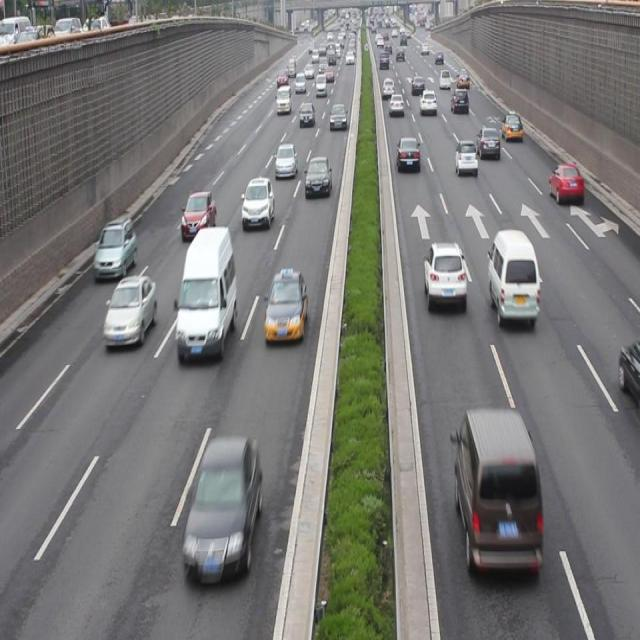car: (181, 434, 261, 582), (103, 274, 157, 348), (264, 268, 307, 342), (422, 242, 464, 306), (94, 217, 137, 277), (181, 188, 216, 240), (241, 176, 275, 228), (548, 161, 584, 206), (305, 156, 332, 195), (396, 136, 420, 171), (274, 142, 297, 178), (476, 125, 500, 159), (454, 139, 477, 174), (500, 111, 524, 141), (329, 102, 348, 131), (298, 101, 315, 128)
truck: (452, 408, 542, 575), (175, 225, 237, 357), (486, 229, 538, 320)
